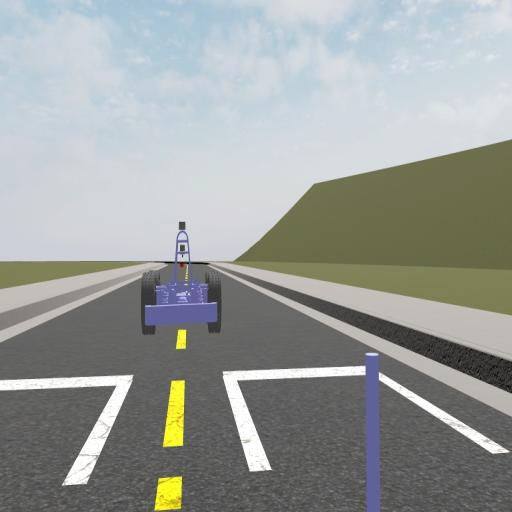ERP-42: (140, 222, 222, 334)
